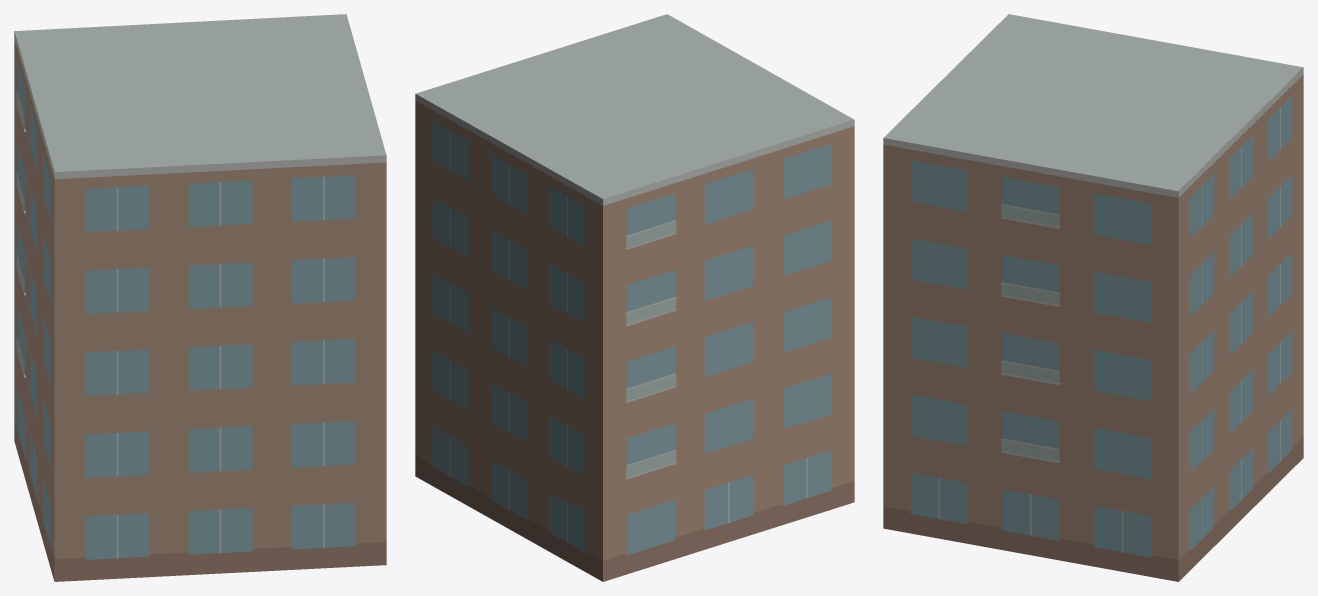
File: survey-upis-32533310.glb
The picture shows the model from 3 angles, left to right: view 1: azimuth 30°, elevation 25°; view 2: azimuth 150°, elevation 25°; view 3: azimuth 270°, elevation 25°; orthographic projection. The views are drawn at different scales.
Parts seen in each view (by area): view 1: survey-upis-32533310.tmp; view 2: survey-upis-32533310.tmp; view 3: survey-upis-32533310.tmp.
Part boxes in pixels (x1,y1,x2,y2): survey-upis-32533310.tmp: (14, 14, 386, 581); survey-upis-32533310.tmp: (415, 14, 854, 581); survey-upis-32533310.tmp: (883, 14, 1303, 581).
Size of the model in its own units: 13.73 by 14.1 by 13.76.
